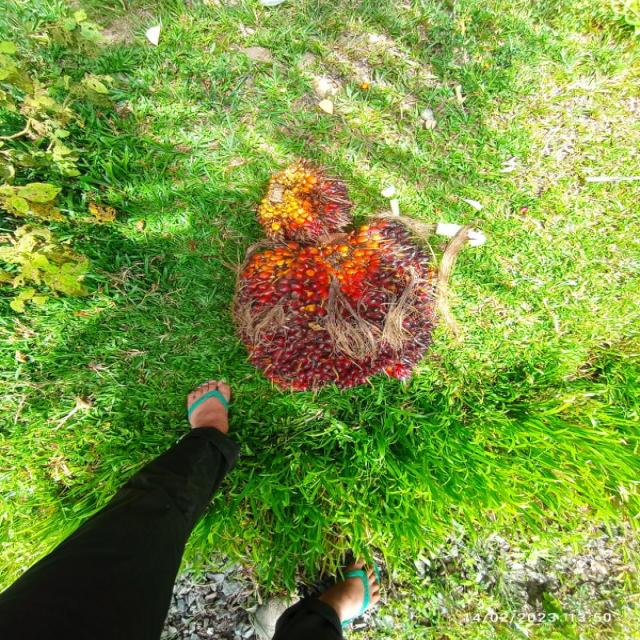fraksi 1: (192, 198, 486, 430), (223, 140, 367, 248)
